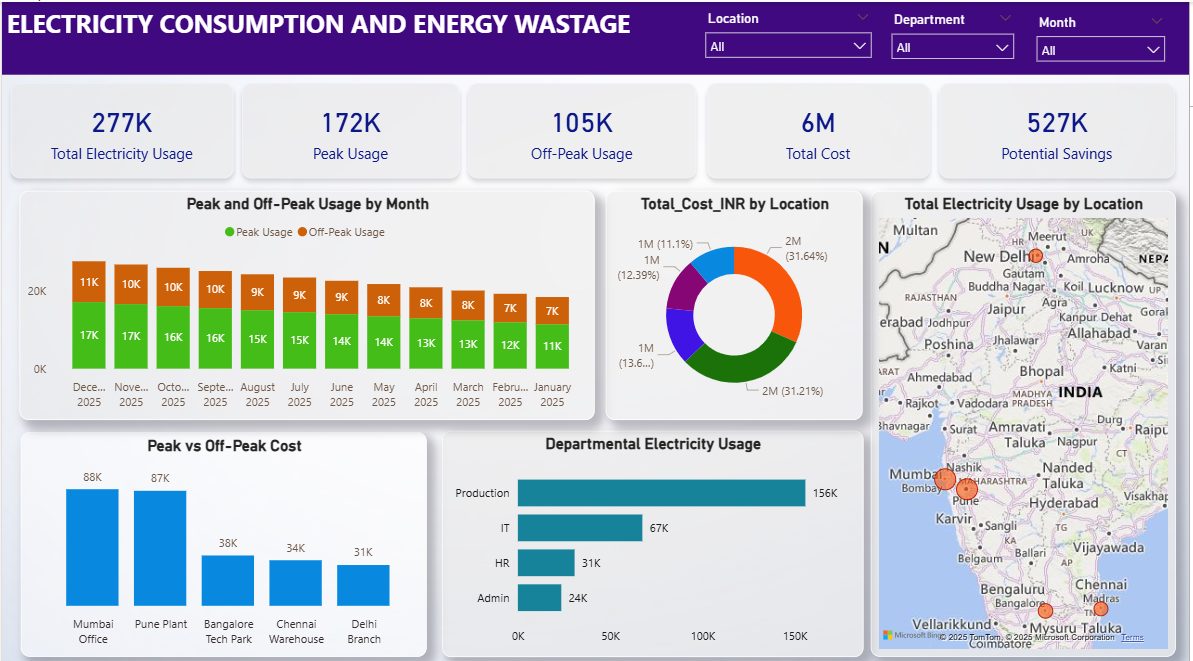

This screenshot's page, from the dashboard's own definition file:
{"tool":"powerbi","page":{"name":"Page 1","canvas":[1280,720],"ordinal":0},"visuals":[{"type":"card","fields":{"Values":["Monthly_Electricity_Data.Total Electricity Usage"]},"box":[9.4,87.6,239.9,102.4],"z":0},{"type":"card","fields":{"Values":["Monthly_Electricity_Data.Peak Usage"]},"box":[258.8,87.6,234.5,102.4],"z":1000},{"type":"card","fields":{"Values":["Monthly_Electricity_Data.Off-Peak Usage"]},"box":[502.7,87.6,245.3,102.4],"z":2000},{"type":"clusteredBarChart","title":"Departmental Electricity Usage","fields":{"Category":["Monthly_Electricity_Data.Department"],"Y":["Sum(Monthly_Electricity_Data.Total_Units_kWh)"]},"box":[474.4,462.2,454.2,243.9],"z":5000},{"type":"clusteredColumnChart","title":"Peak vs Off-Peak Cost","fields":{"Category":["Monthly_Electricity_Data.Location"],"Y":["Monthly_Electricity_Data.Total Electricity Usage"]},"box":[20.2,463.6,438,242.6],"z":6000},{"type":"textbox","box":[0,0,1280.3,78.2],"z":7000},{"type":"columnChart","title":"Peak  and Off-Peak Usage by Month","fields":{"Category":["Monthly_Electricity_Data.Month"],"Y":["Monthly_Electricity_Data.Peak Usage","Monthly_Electricity_Data.Off-Peak Usage"]},"box":[19.2,203.1,620.2,247],"z":10000},{"type":"map","title":"Total Electricity Usage  by Location","fields":{"Category":["Monthly_Electricity_Data.Location"],"Size":["Monthly_Electricity_Data.Total Electricity Usage"]},"box":[936.6,203.5,328.8,502.7],"z":10001},{"type":"donutChart","title":"Total_Cost_INR by Location","fields":{"Category":["Monthly_Electricity_Data.Location"],"Y":["Sum(Monthly_Electricity_Data.Total_Cost_INR)"]},"box":[650.4,203.1,277.2,247],"z":10003},{"type":"slicer","fields":{"Values":["Monthly_Electricity_Data.Department"]},"box":[948.8,5.4,152.3,63.3],"z":10004},{"type":"slicer","fields":{"Values":["Monthly_Electricity_Data.Location"]},"box":[747.9,4,199.5,64.7],"z":10005},{"type":"slicer","fields":{"Values":["Monthly_Electricity_Data.Month"]},"box":[1105.1,8.1,159,63.3],"z":10006},{"type":"card","fields":{"Values":["Monthly_Electricity_Data.Total Cost"]},"box":[760.1,87.6,239.9,102.4],"z":10007},{"type":"card","fields":{"Values":["Monthly_Electricity_Data.Potential Savings"]},"box":[1010.7,87.6,253.4,102.4],"z":10008}]}

Visuals, with their boxes in screenshot pixels (x1, y1, x2, y2), scaled from the page's 1280x720 canvas onto the 1193x661 screenshot:
card - Monthly_Electricity_Data.Total Electricity Usage: (x1=9, y1=80, x2=232, y2=174)
card - Monthly_Electricity_Data.Peak Usage: (x1=241, y1=80, x2=460, y2=174)
card - Monthly_Electricity_Data.Off-Peak Usage: (x1=469, y1=80, x2=697, y2=174)
"Departmental Electricity Usage" clusteredBarChart: (x1=442, y1=424, x2=865, y2=648)
"Peak vs Off-Peak Cost" clusteredColumnChart: (x1=19, y1=426, x2=427, y2=648)
textbox: (x1=0, y1=0, x2=1192, y2=72)
"Peak  and Off-Peak Usage by Month" columnChart: (x1=18, y1=186, x2=596, y2=413)
"Total Electricity Usage  by Location" map: (x1=873, y1=187, x2=1179, y2=648)
"Total_Cost_INR by Location" donutChart: (x1=606, y1=186, x2=865, y2=413)
slicer - Monthly_Electricity_Data.Department: (x1=884, y1=5, x2=1026, y2=63)
slicer - Monthly_Electricity_Data.Location: (x1=697, y1=4, x2=883, y2=63)
slicer - Monthly_Electricity_Data.Month: (x1=1030, y1=7, x2=1178, y2=66)
card - Monthly_Electricity_Data.Total Cost: (x1=708, y1=80, x2=932, y2=174)
card - Monthly_Electricity_Data.Potential Savings: (x1=942, y1=80, x2=1178, y2=174)
